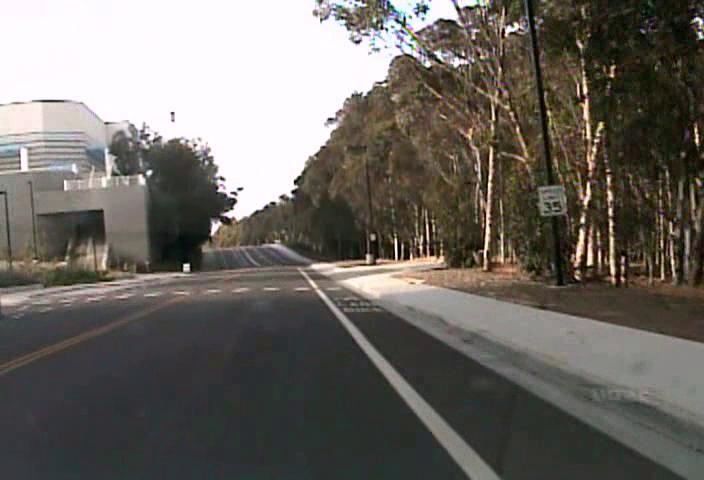speedLimit35: (536, 183, 567, 217)
